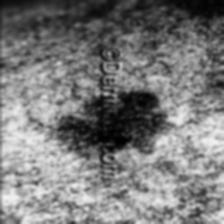Potentially Malignant Skin Tumors: (56, 94, 162, 166)
